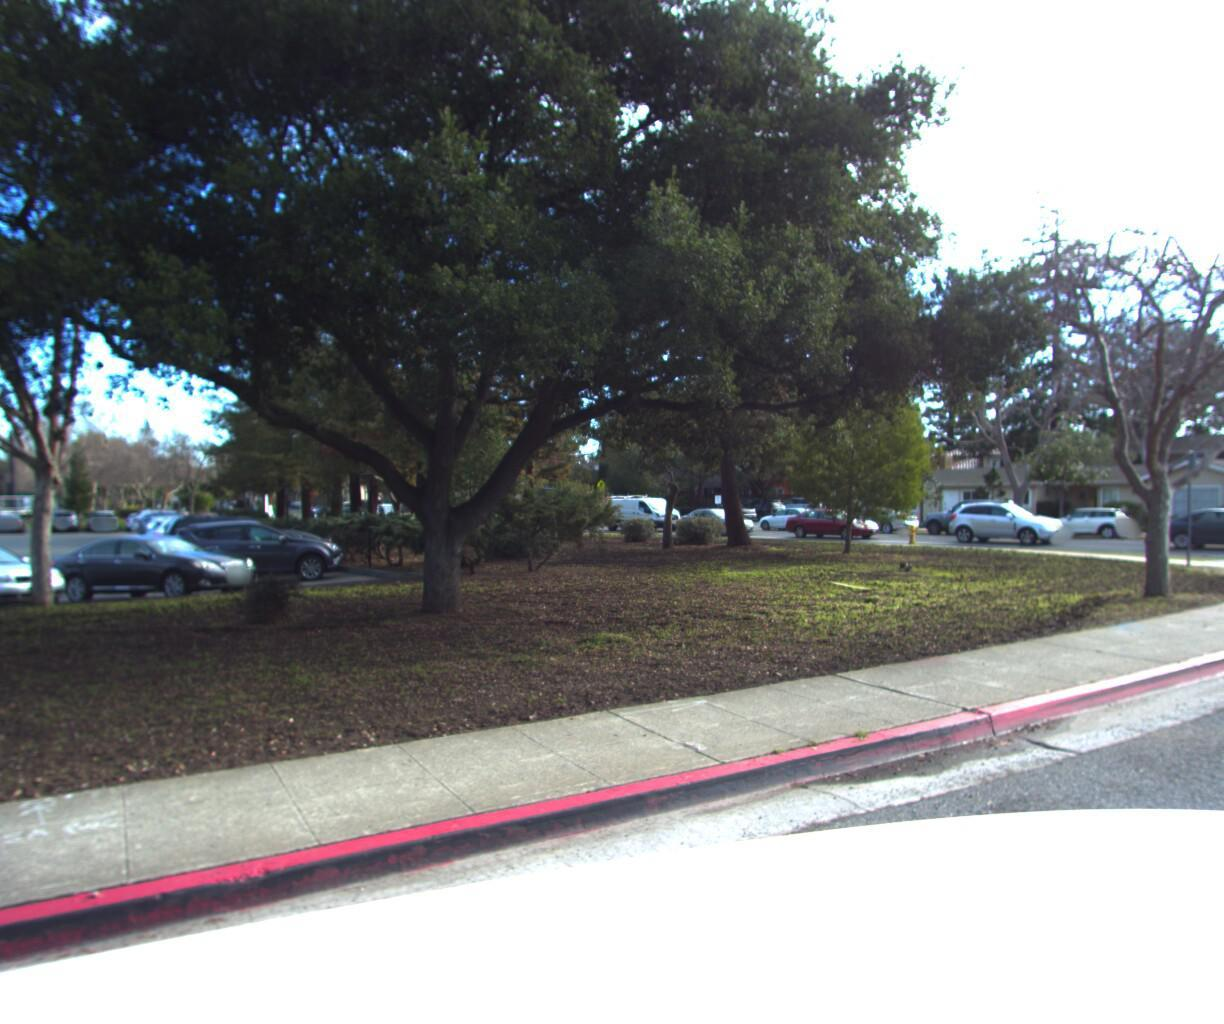car: (943, 487, 1085, 543), (919, 491, 1033, 536), (782, 500, 894, 536), (597, 485, 691, 527), (1043, 499, 1147, 537), (1156, 501, 1224, 551), (838, 497, 928, 530), (676, 500, 766, 532), (760, 498, 837, 528), (734, 491, 790, 515), (707, 496, 762, 515), (369, 493, 402, 515)
